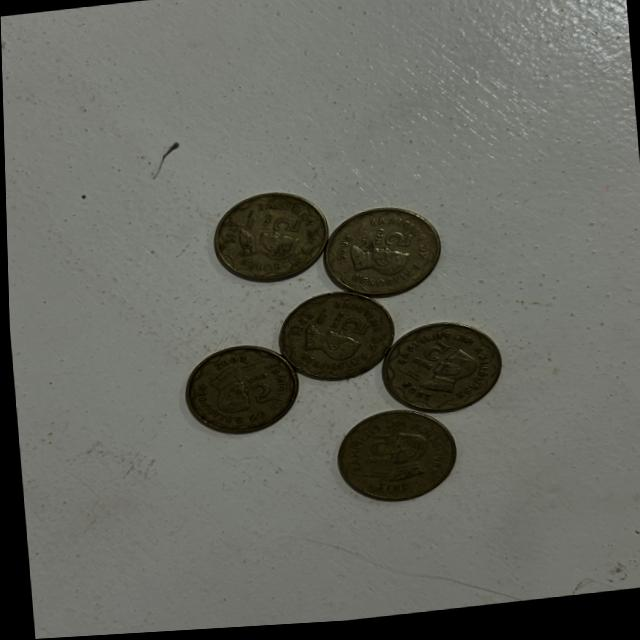5_Old_Front: (248, 211, 309, 249), (354, 431, 396, 479), (361, 226, 414, 255), (242, 370, 276, 410), (332, 310, 377, 338), (410, 345, 450, 375)
